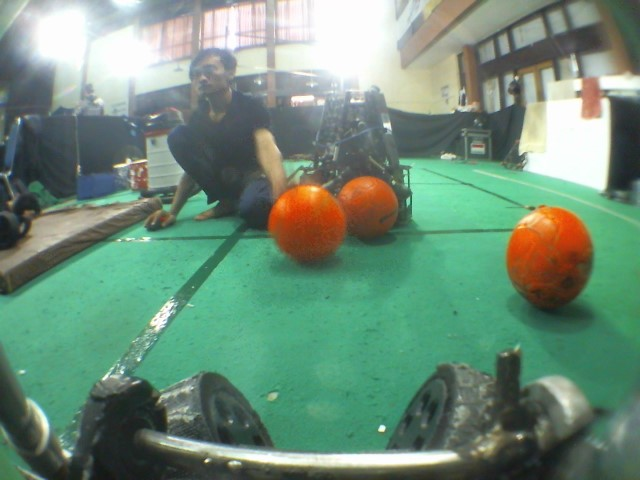ball: (502, 201, 600, 323), (264, 181, 350, 269), (349, 172, 402, 246)
